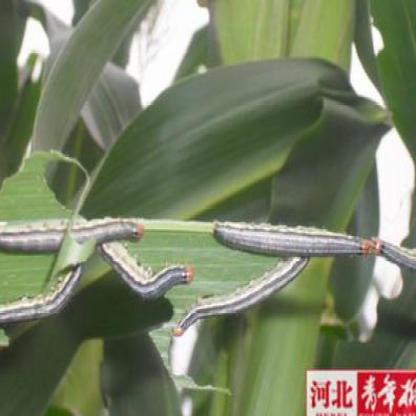armyworm: (161, 252, 313, 338), (94, 232, 194, 307), (212, 220, 378, 265), (0, 242, 90, 324), (0, 213, 144, 253), (374, 216, 416, 270)
